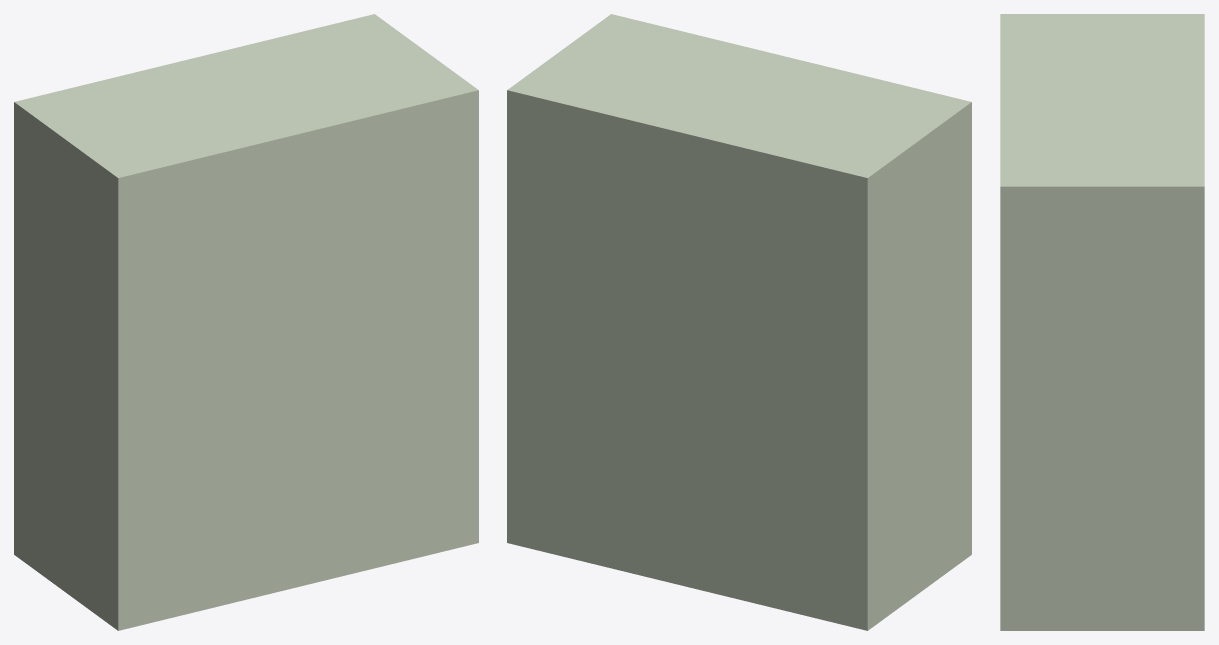
3 views of the same model, side by side, from view 1: azimuth 30°, elevation 25°; view 2: azimuth 150°, elevation 25°; view 3: azimuth 270°, elevation 25° (orthographic).
Visible parts, largest first — view 1: Group_25; view 2: Group_25; view 3: Group_25.
Part boxes in pixels (x1,y1,x2,y2): Group_25: (14, 14, 478, 630); Group_25: (507, 14, 971, 630); Group_25: (1000, 14, 1204, 630).
Size of the model in its own units: 197 by 236 by 98.43.
